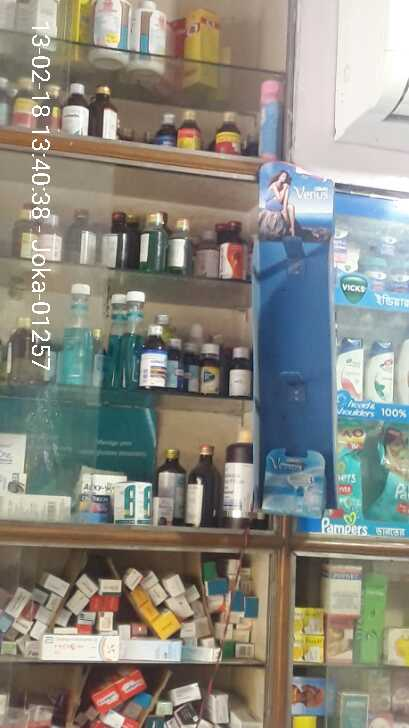beauty: (258, 443, 331, 524), (335, 337, 365, 402), (366, 339, 394, 402)
pharmacy: (386, 256, 409, 294), (362, 252, 384, 285)
